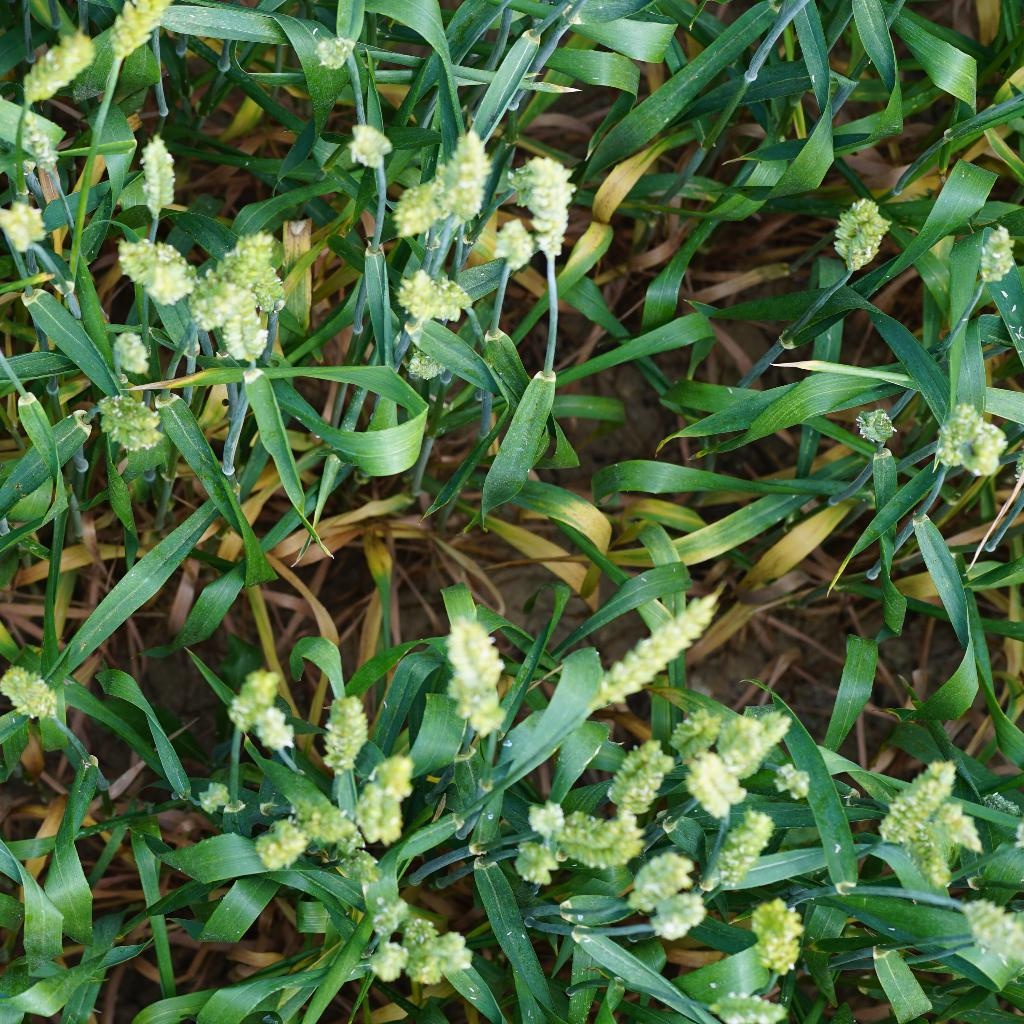0-0: (588, 575, 727, 712), (182, 226, 286, 333), (875, 752, 962, 849), (111, 237, 205, 320), (105, 0, 209, 70), (429, 125, 494, 230), (519, 152, 576, 268), (606, 732, 677, 825), (713, 709, 805, 779), (15, 26, 94, 107), (394, 263, 480, 332), (398, 912, 471, 992), (553, 808, 646, 869), (715, 805, 778, 892), (830, 195, 888, 286), (93, 389, 179, 450), (950, 898, 1024, 968), (620, 851, 701, 914), (389, 168, 459, 240), (494, 148, 584, 204), (745, 897, 804, 980), (680, 752, 748, 823), (445, 619, 510, 687), (0, 664, 68, 729), (316, 693, 367, 778), (228, 668, 285, 739), (928, 398, 975, 481), (665, 702, 726, 764), (220, 291, 273, 361), (137, 129, 177, 221), (704, 708, 767, 764), (651, 887, 712, 944), (956, 413, 1012, 475), (255, 812, 310, 873), (484, 216, 542, 272), (359, 775, 402, 847), (932, 803, 986, 859), (973, 221, 1017, 289), (459, 671, 502, 740), (905, 833, 955, 892), (0, 199, 50, 258), (706, 991, 794, 1024), (241, 260, 287, 321), (22, 110, 61, 177), (346, 122, 388, 175), (363, 939, 410, 985), (104, 331, 150, 378), (297, 807, 357, 843), (511, 840, 559, 885), (373, 754, 423, 797), (310, 31, 362, 72), (371, 894, 415, 941), (330, 850, 386, 886), (254, 707, 294, 756), (771, 760, 813, 803), (406, 342, 453, 379), (856, 408, 895, 451), (522, 800, 565, 838), (194, 779, 234, 810), (976, 791, 1019, 819), (970, 68, 976, 70)
